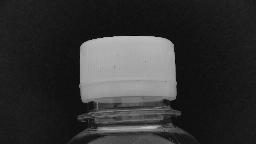Loose Cap: (72, 78, 186, 122)
